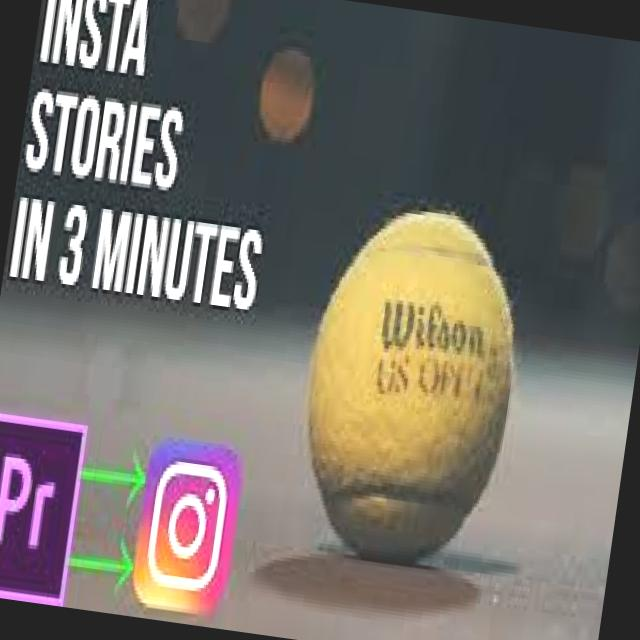Tennis Ball: (286, 194, 537, 577)
